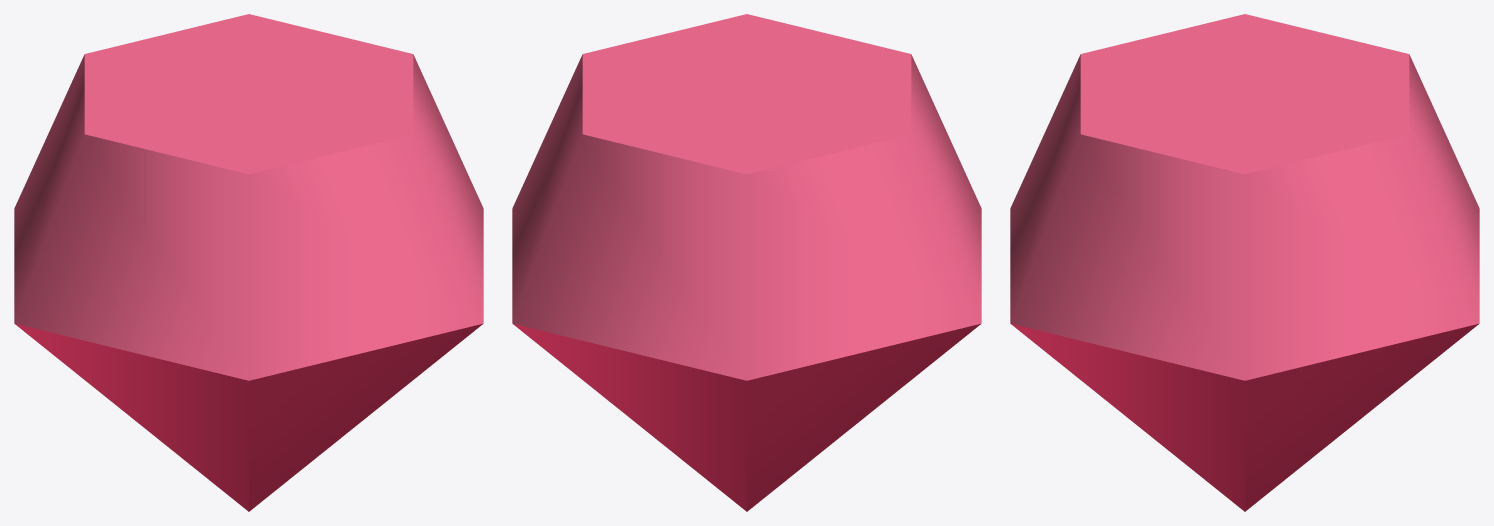
The model's file is gem.glb.
3 views of the same model, side by side, from view 1: azimuth 30°, elevation 25°; view 2: azimuth 150°, elevation 25°; view 3: azimuth 270°, elevation 25° (orthographic).
Visible parts, largest first — view 1: root; view 2: root; view 3: root.
Boxes of the visible parts, bbox=[...] form: root: bbox=[14, 14, 483, 511]; root: bbox=[512, 14, 981, 511]; root: bbox=[1010, 14, 1479, 511].
Size of the model in its own units: 0.2 by 0.17 by 0.1732.
